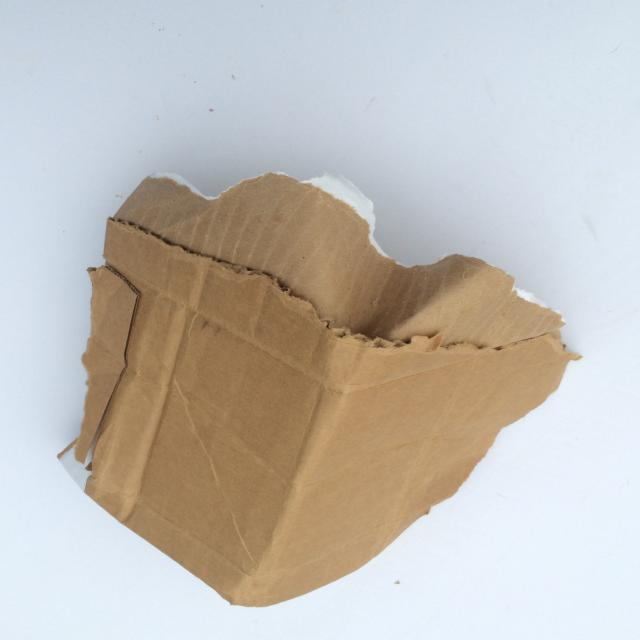cardboard: (56, 170, 583, 608)
